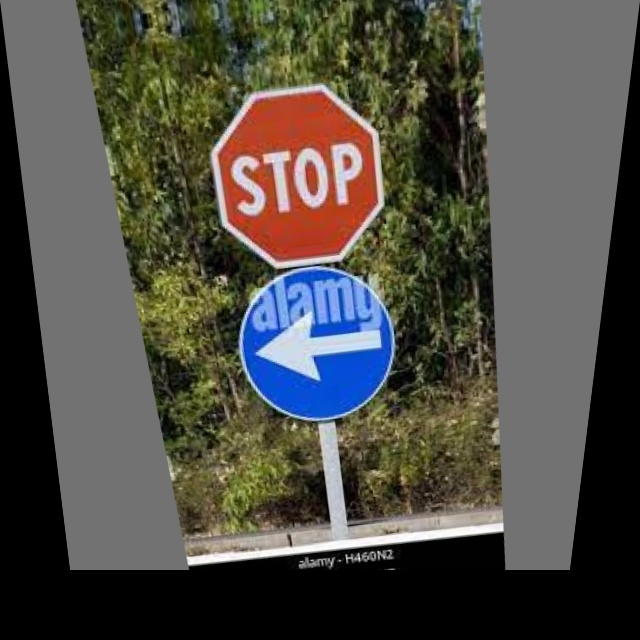Compulsory_Turn_Left: (233, 252, 409, 428)
